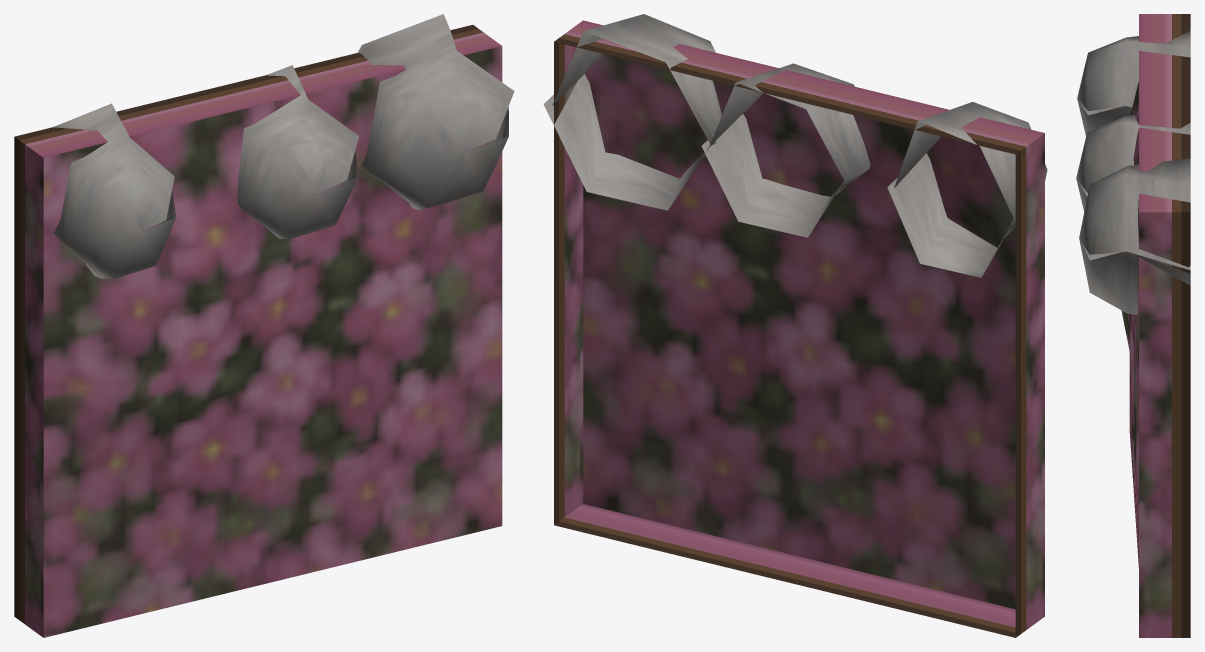
The model's file is keep-bed-palepink-stones-s.obj.
3 renders of one model, left to right at view 1: azimuth 30°, elevation 25°; view 2: azimuth 150°, elevation 25°; view 3: azimuth 270°, elevation 25°, orthographic. The views are drawn at different scales.
Visible parts, largest first — view 1: bed-palepink-stones-s; view 2: bed-palepink-stones-s; view 3: bed-palepink-stones-s.
Part boxes in pixels (box(x1,y1,x2,y2)): bed-palepink-stones-s: box(14, 14, 514, 637); bed-palepink-stones-s: box(543, 14, 1047, 637); bed-palepink-stones-s: box(1076, 14, 1190, 637).
Size of the model in its own units: 1.02 by 1.04 by 0.2439.
1 material, 1 textured.
